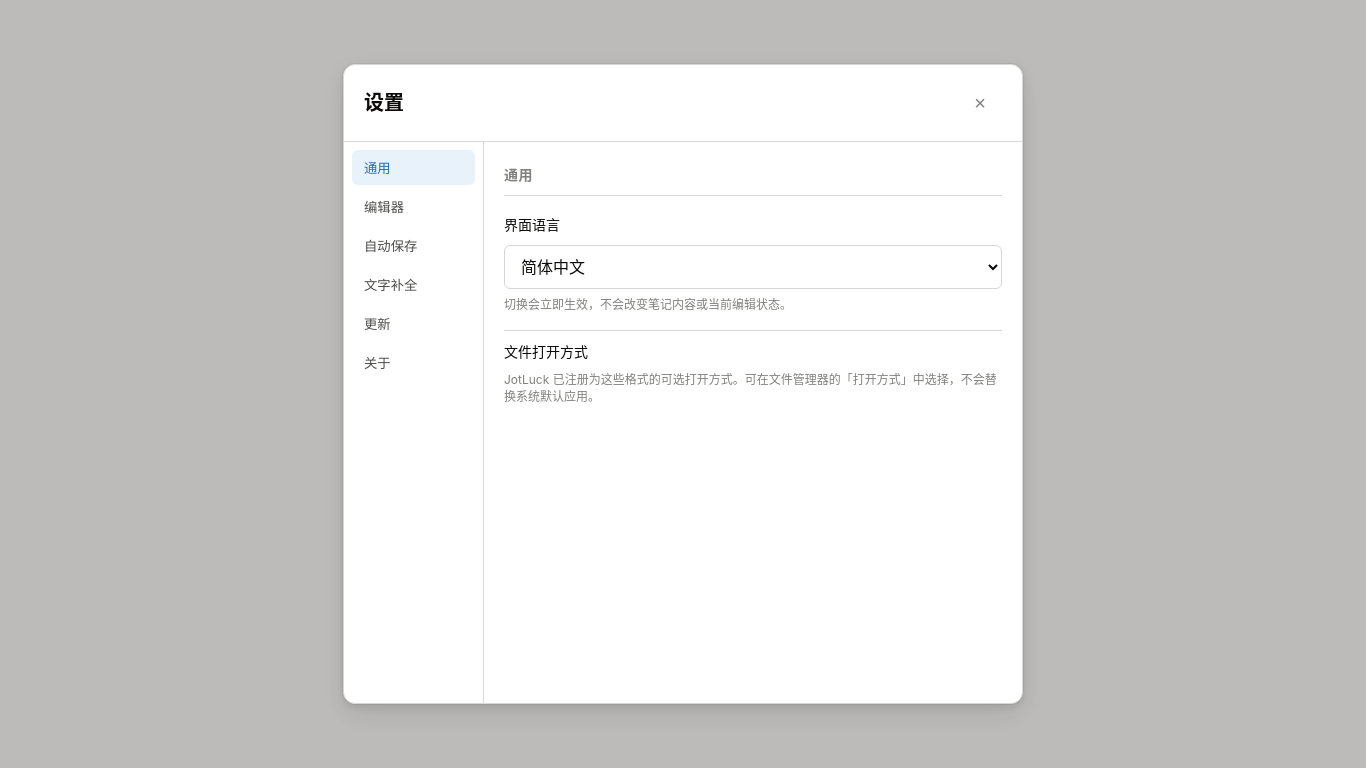
Scenario: SettingsDialog update check reuses useVersionCheck semantics › does not report a same-version prerelease tag as a new version
The width and height of the screenshot is (1366, 768).
What coordinates should you click on to do the following:
click the button with class "nav-item" showing "更新"
I would click on:
 (414, 324)
Its box is [352, 306, 475, 341].
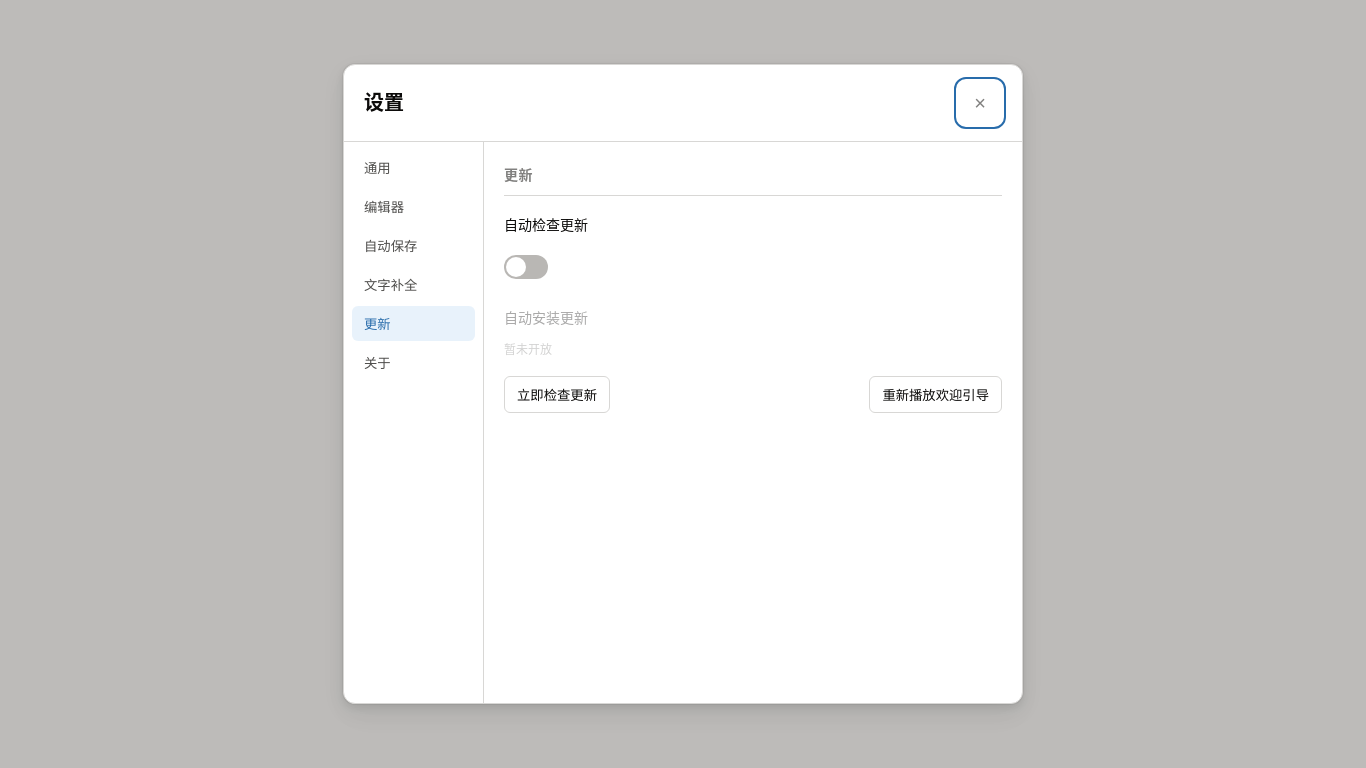
Expected: the button "立即检查更新" is shown
What coordinates should you click on to do the following:
click the button "立即检查更新"
I would click on:
 (557, 395)
Its box is [504, 376, 610, 413].
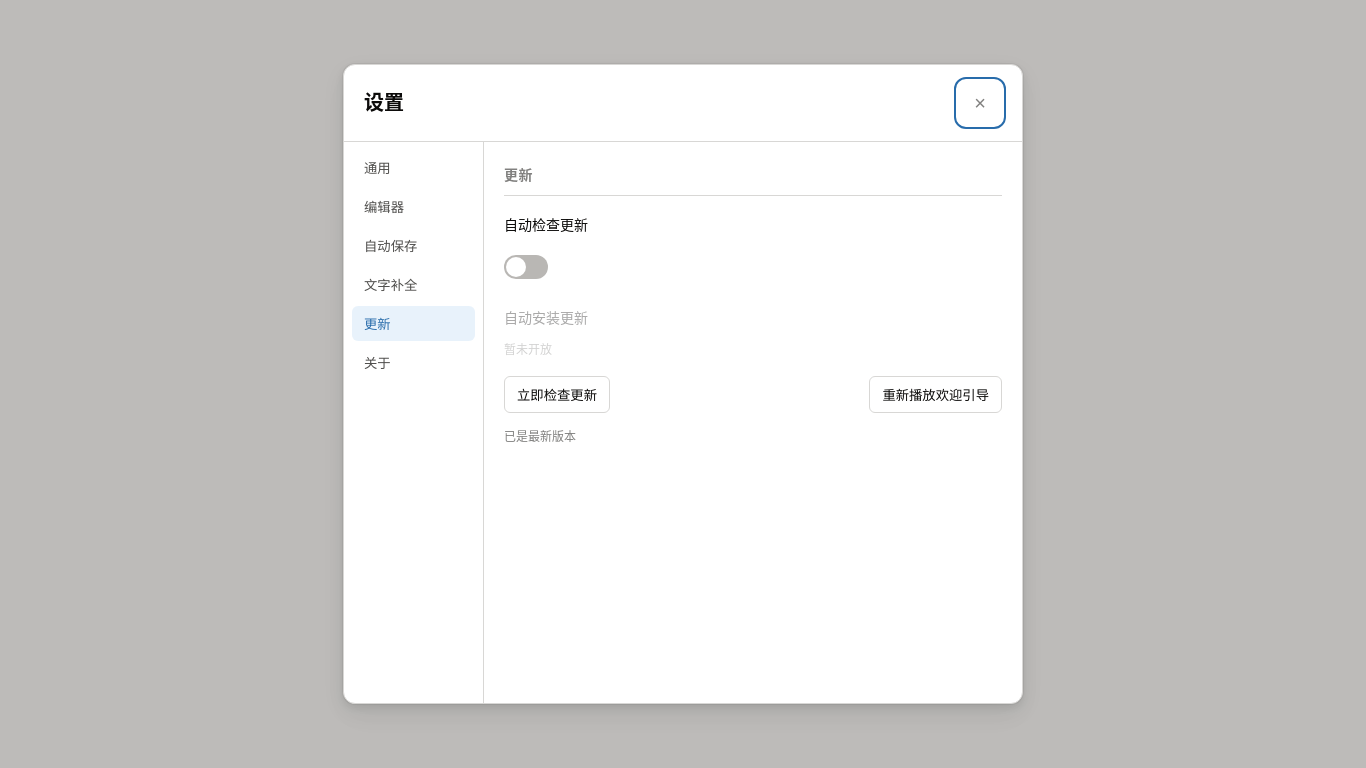
Expected: the text "已是最新版本" is shown, [504, 429, 576, 444]
